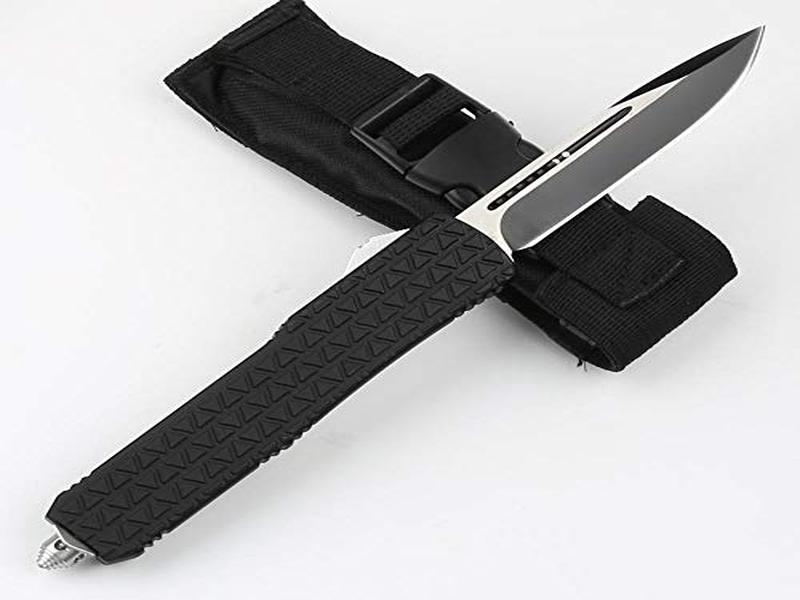KNIFE: (30, 23, 771, 582)
